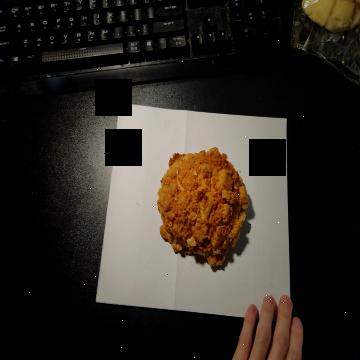soboru_bread: (156, 145, 250, 273)
